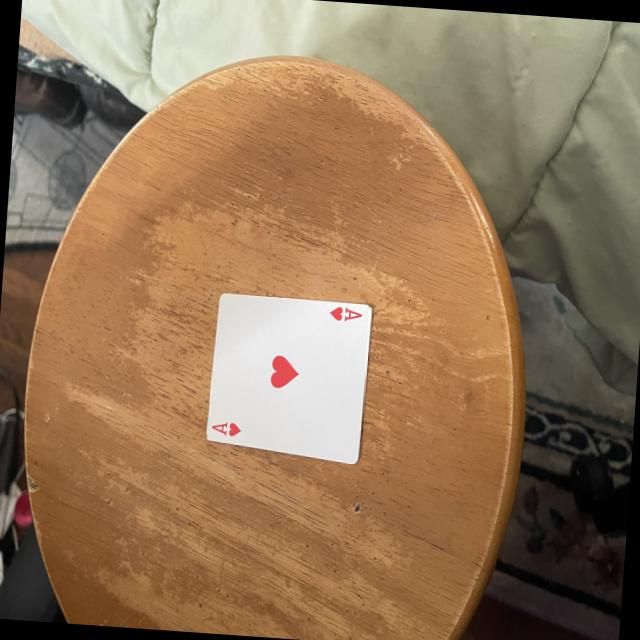Ace of hearts: (207, 290, 370, 462)
